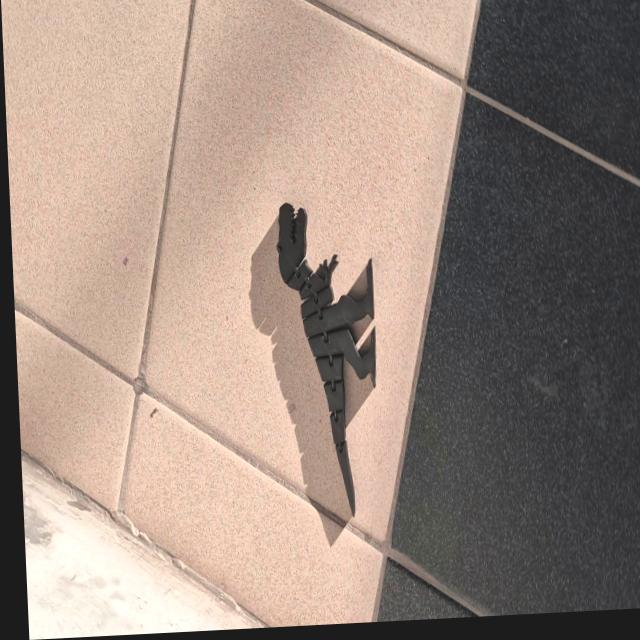dino: (273, 197, 383, 523)
